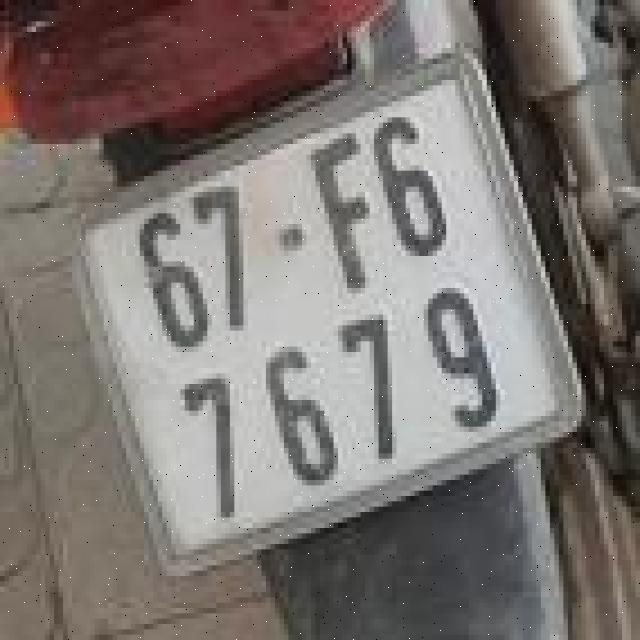6: (361, 94, 469, 272), (248, 331, 349, 496), (125, 196, 223, 363)
7: (330, 295, 425, 476), (178, 172, 272, 345), (170, 359, 257, 530)
9: (409, 260, 526, 446)
F: (297, 123, 394, 302)
